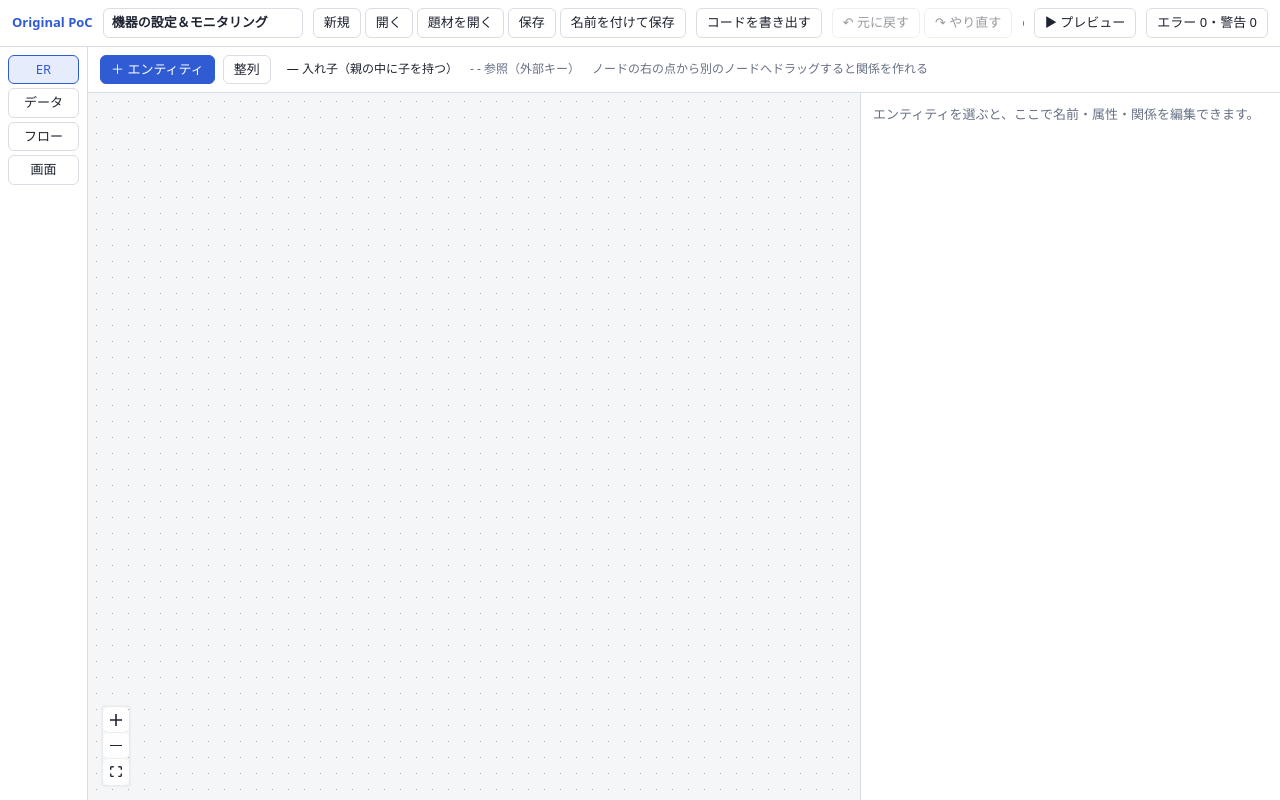
Scenario: ヘッダーの「コードを書き出す」 › 選べないブラウザでは zip をダウンロードする
Click the button "コードを書き出す": {"x": 759, "y": 23} [696,8,822,38]
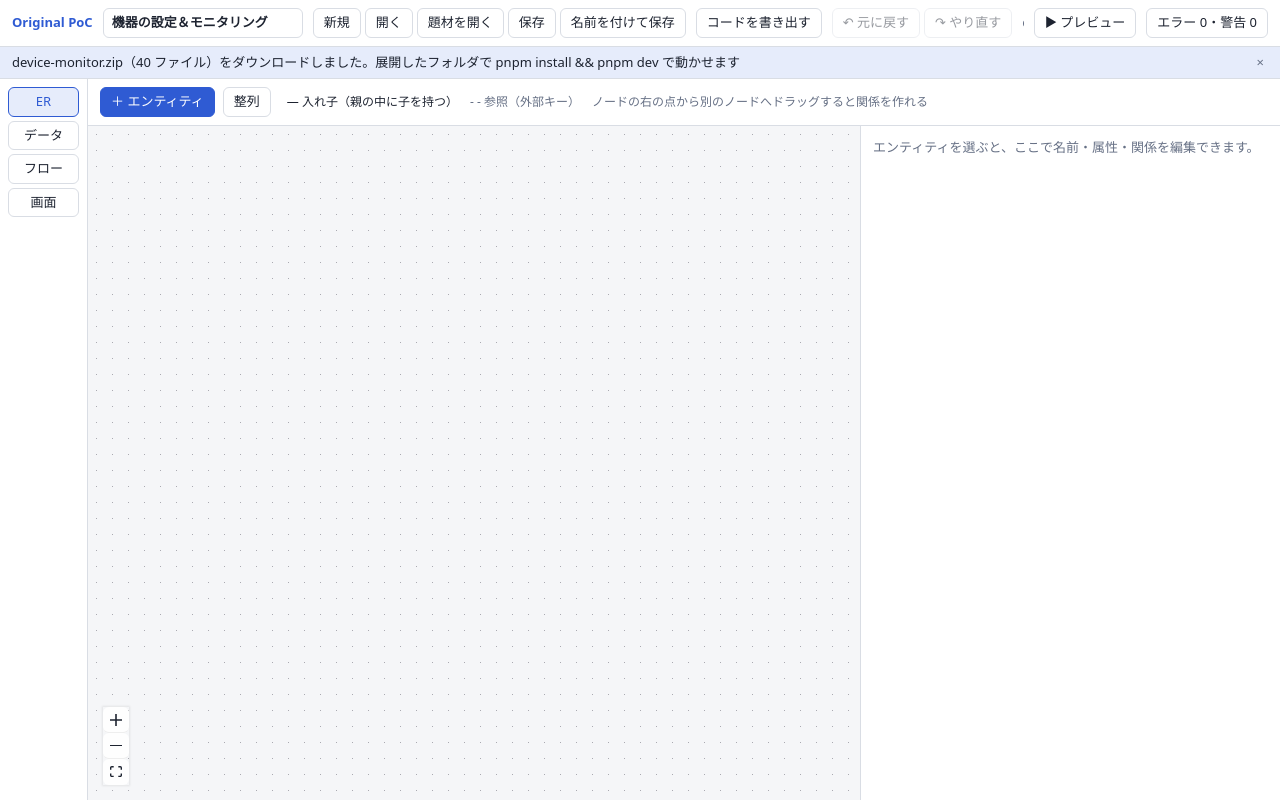
Check: the message shows "device-monitor.zip", box [12,52,740,70]
